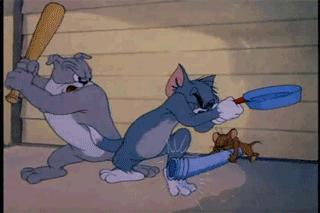tom: (79, 62, 244, 197)
